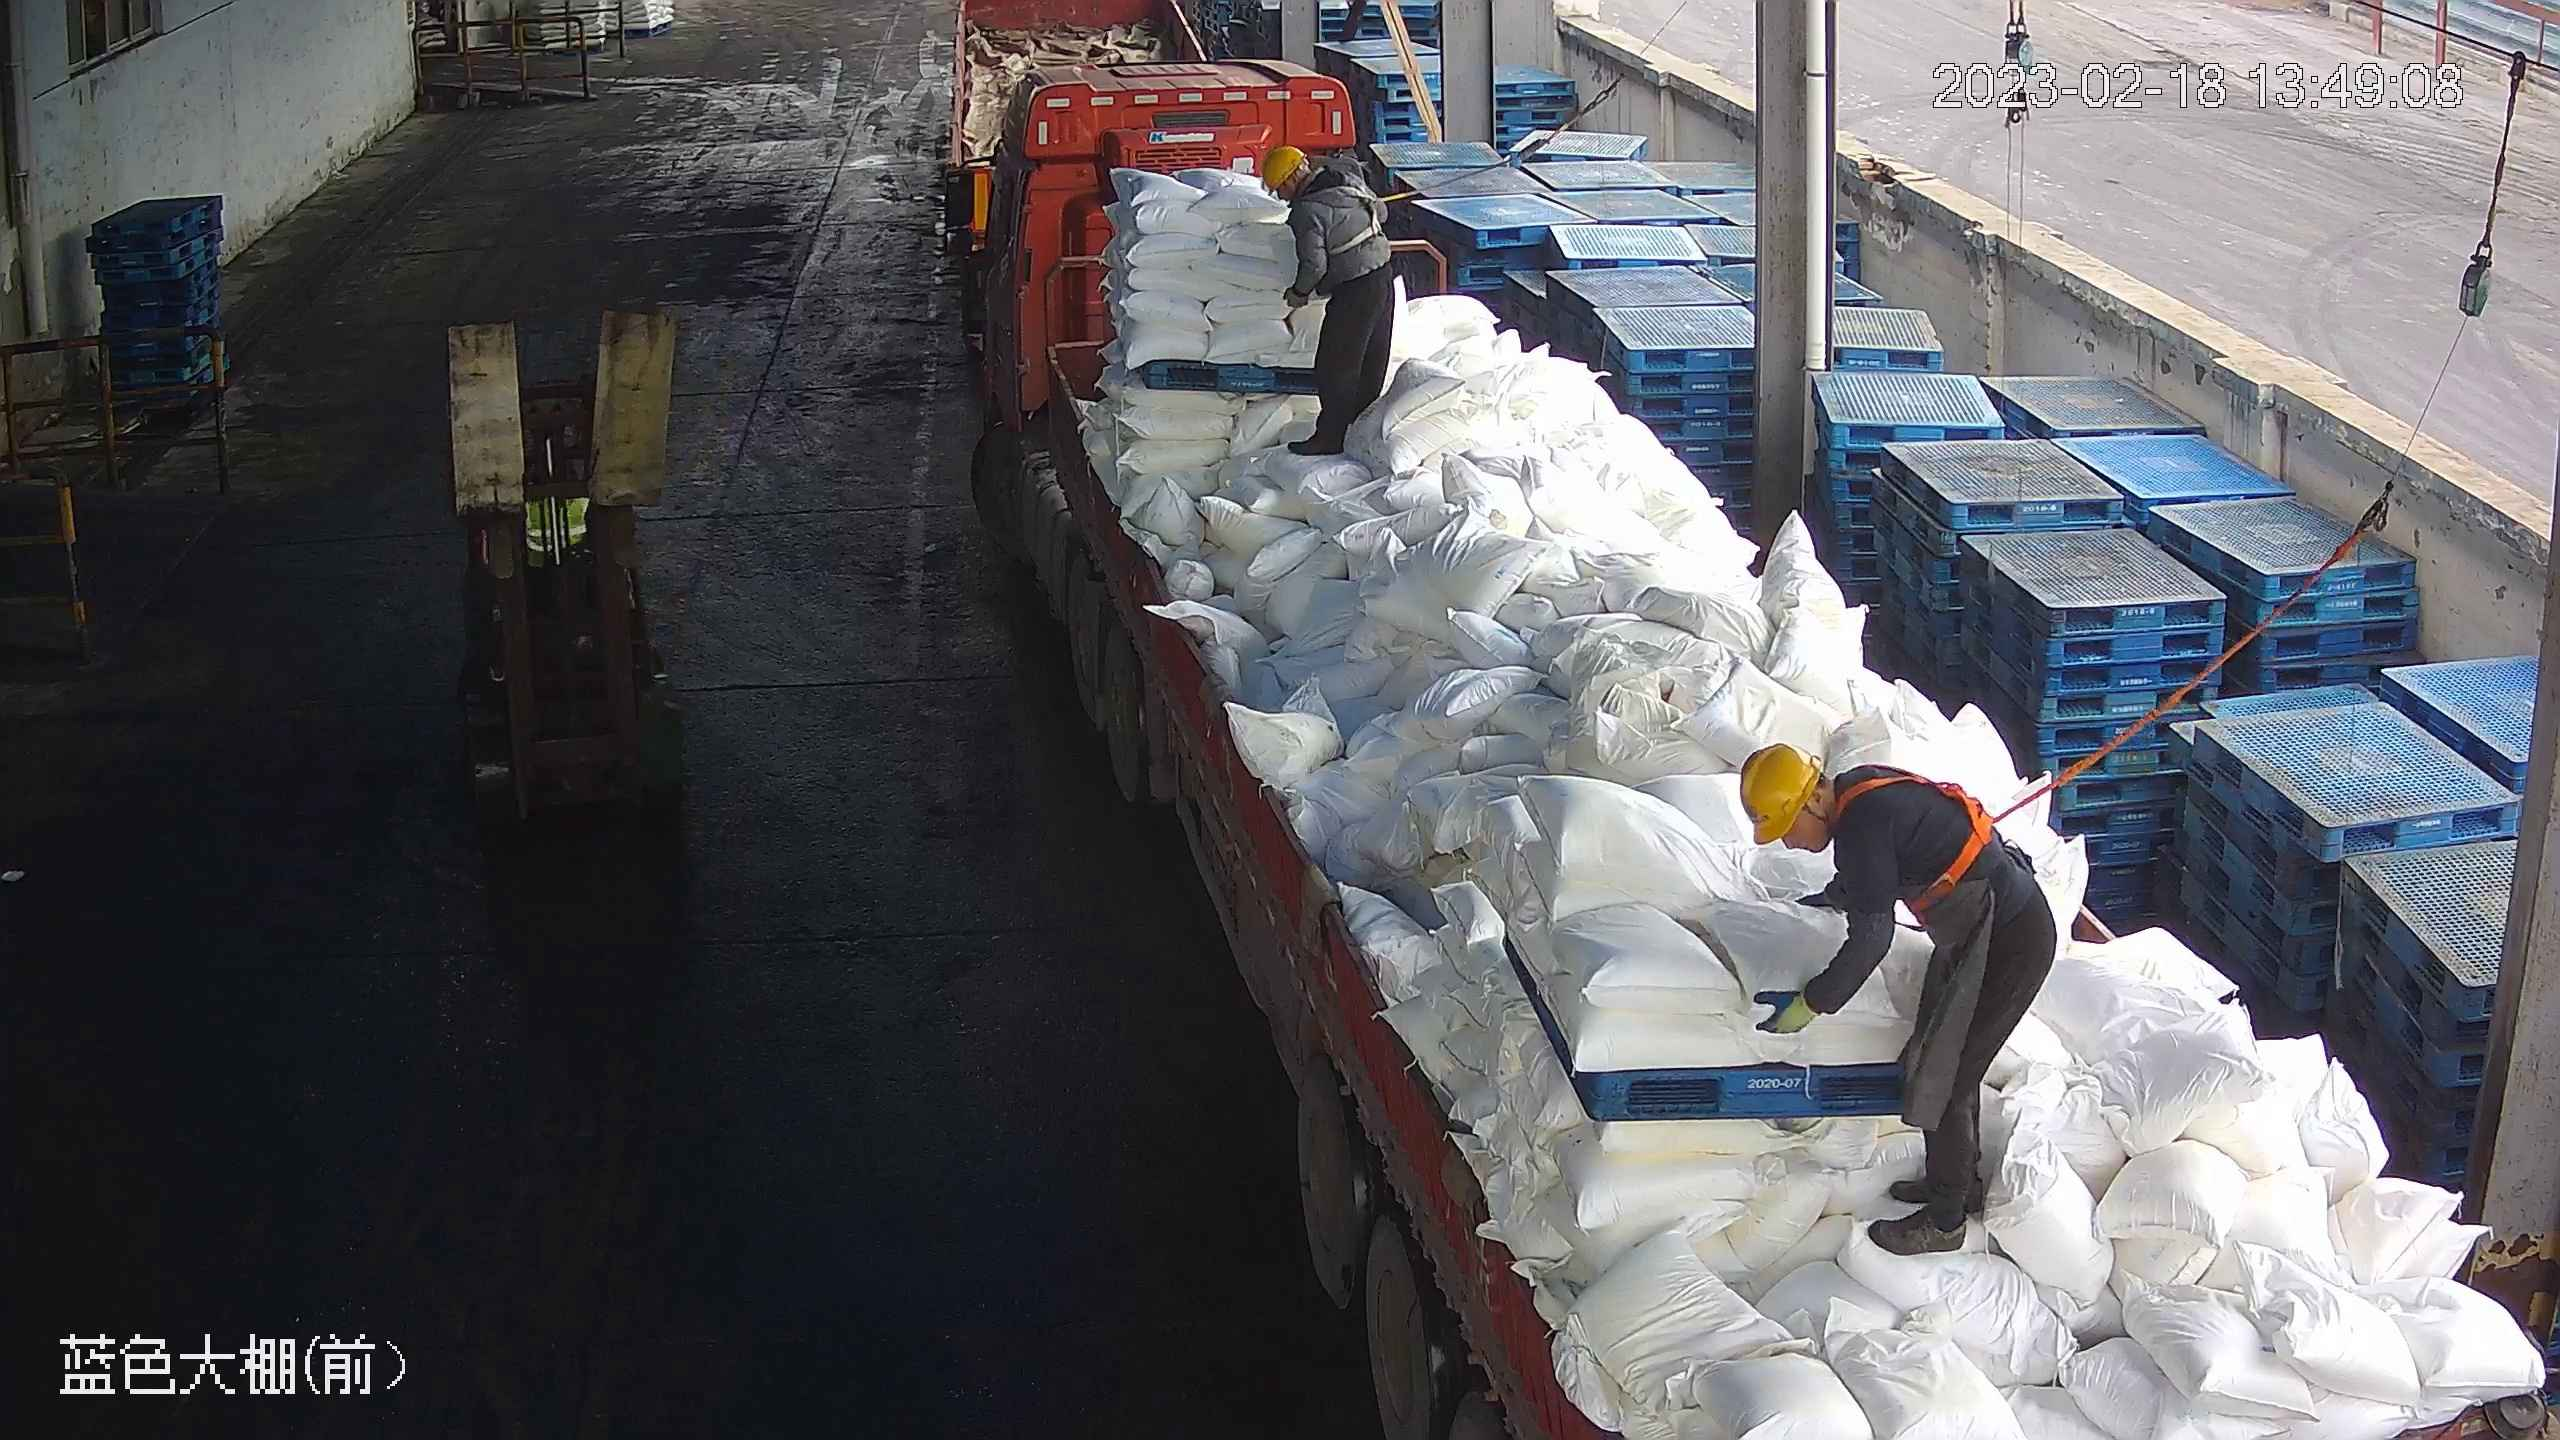belt: (1847, 753, 2020, 906), (1312, 167, 1407, 250)
head: (1738, 742, 1953, 918)
helmet: (1736, 742, 1822, 846), (1259, 142, 1309, 195)
people: (1738, 734, 2062, 1257), (1261, 136, 1399, 456)
truck: (933, 49, 2560, 1440)
